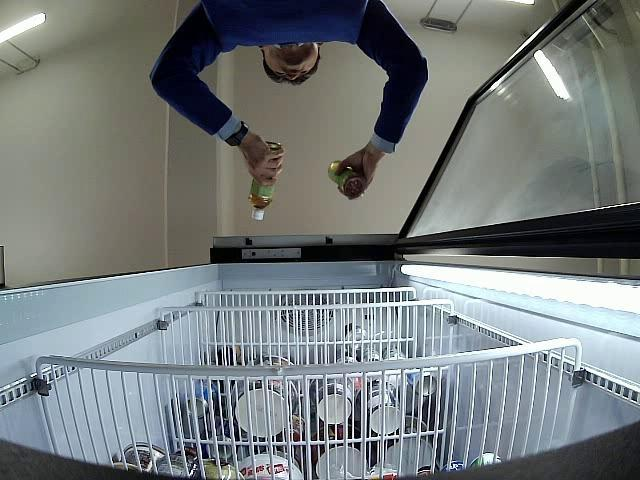19_17cha: (248, 142, 282, 221), (327, 160, 369, 201)
